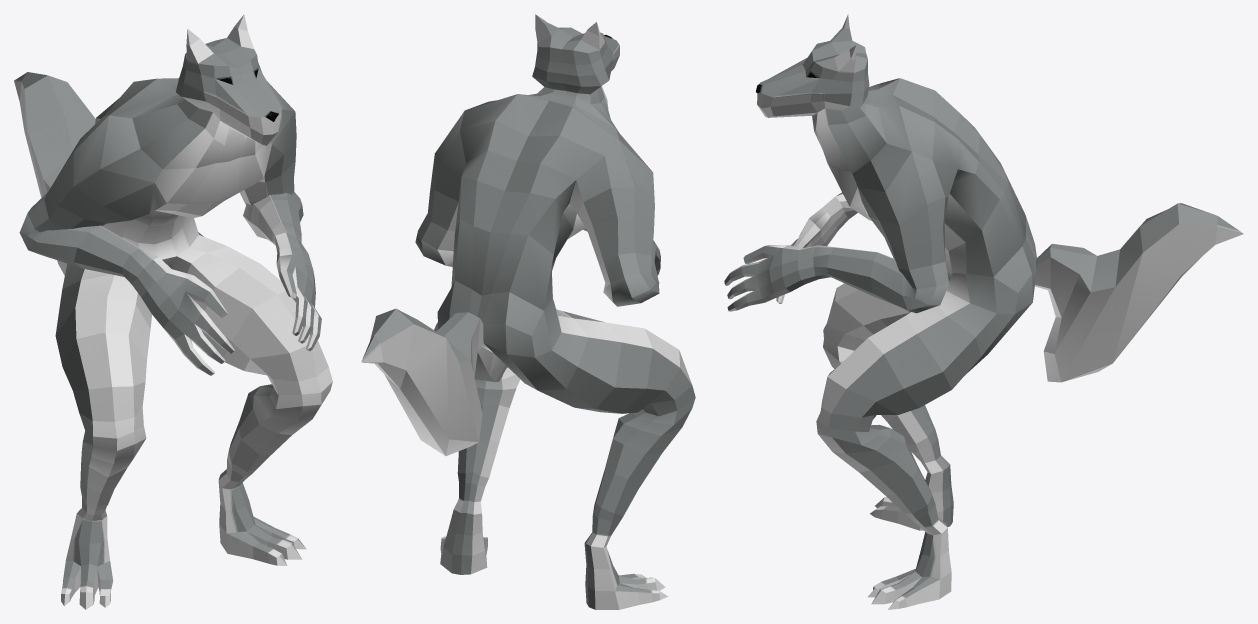
The model's file is WolfIdle_(11).obj.
3 renders of one model, left to right at view 1: azimuth 30°, elevation 25°; view 2: azimuth 150°, elevation 25°; view 3: azimuth 270°, elevation 25°, orthographic. The views are drawn at different scales.
Visible parts, largest first — view 1: Box001; view 2: Box001; view 3: Box001.
Boxes of the visible parts, left/top/right/bottom form: Box001: left=14, top=14, right=332, bottom=609; Box001: left=361, top=14, right=695, bottom=609; Box001: left=724, top=14, right=1243, bottom=609.
Size of the model in its own units: 63.02 by 131 by 116.
